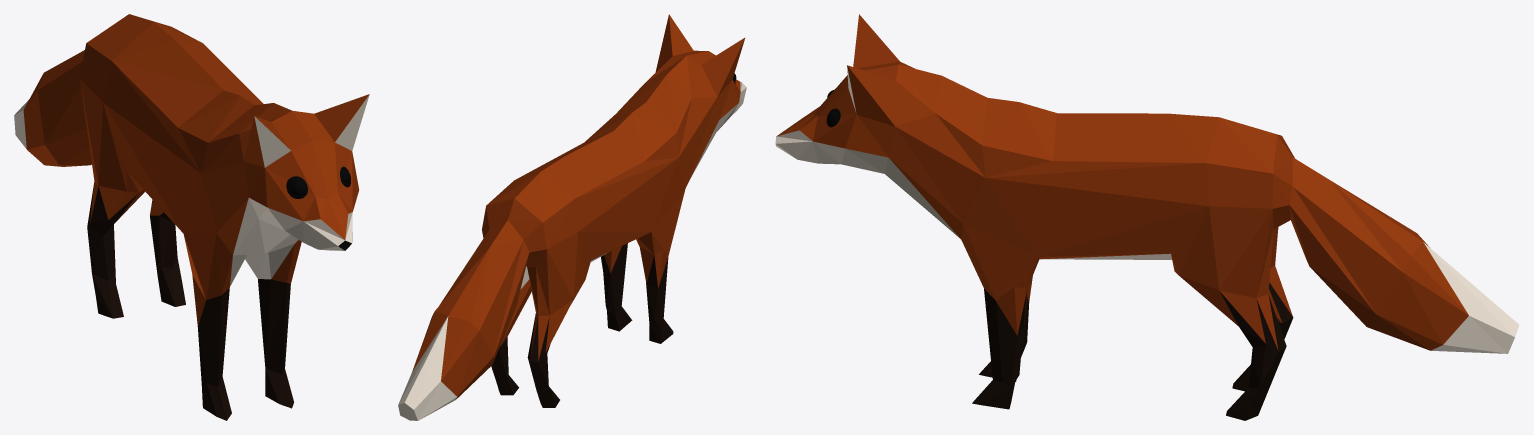
The model's file is redFox.obj.
3 renders of one model, left to right at view 1: azimuth 30°, elevation 25°; view 2: azimuth 150°, elevation 25°; view 3: azimuth 270°, elevation 25°, orthographic. The views are drawn at different scales.
Visible parts, largest first — view 1: Cube_001; view 2: Cube_001; view 3: Cube_001.
Part boxes in pixels (bbox=[...]): Cube_001: bbox=[14, 14, 369, 420]; Cube_001: bbox=[398, 14, 746, 420]; Cube_001: bbox=[775, 14, 1519, 420].
Size of what is drawn, in the model's own units: 1.1 by 2.72 by 5.3.
